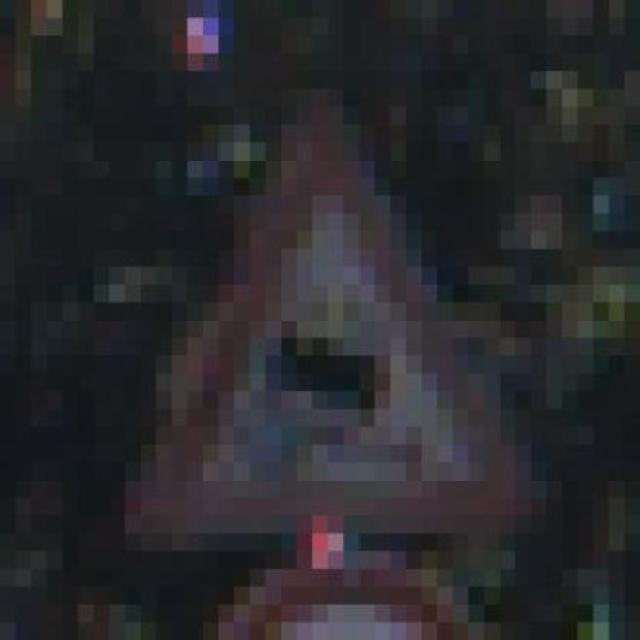Slippery Road Ahead: (109, 53, 531, 569)
